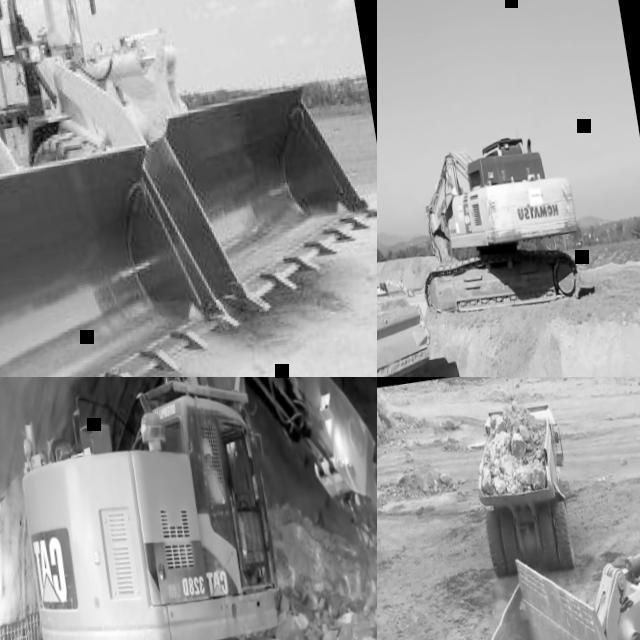helmet: (200, 436, 213, 458)
vest: (204, 464, 227, 506)
